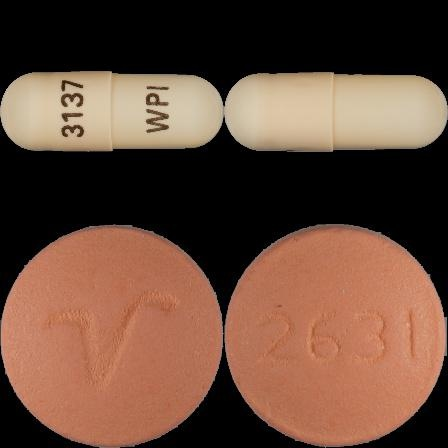52959-824: (0, 0, 224, 224)
